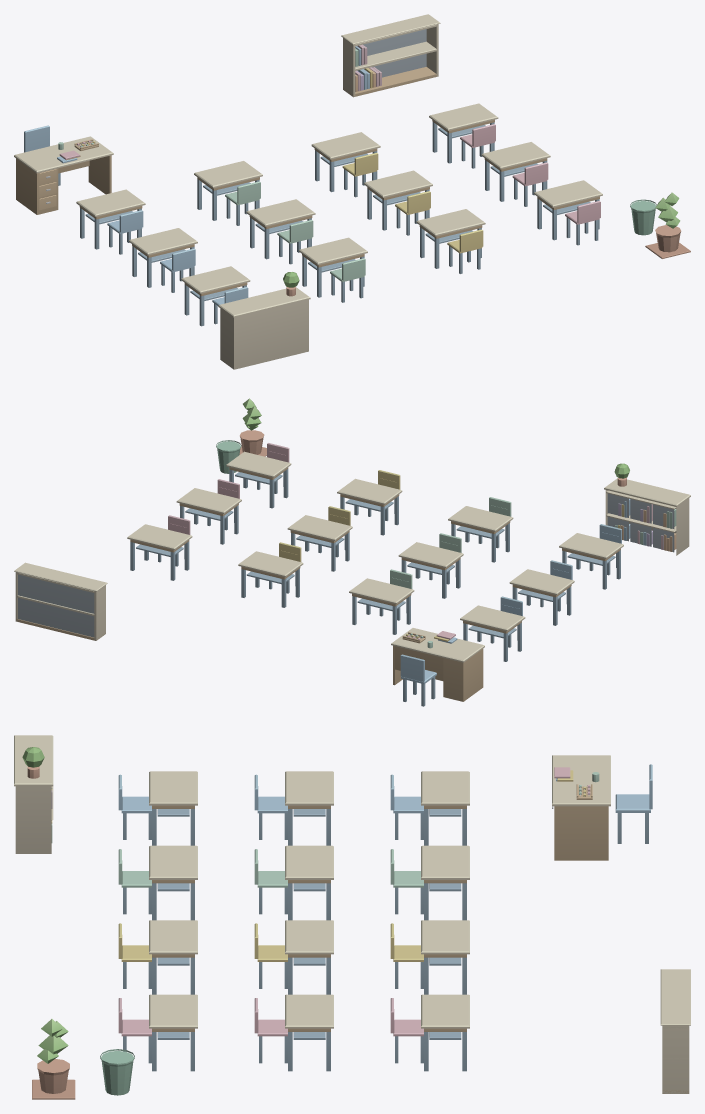
Rendered from k2_interior_props.glb.
3 views of the same model, one above another, from view 1: azimuth 30°, elevation 25°; view 2: azimuth 150°, elevation 25°; view 3: azimuth 270°, elevation 25° (orthographic). The views are drawn at different scales.
Visible parts, largest first — view 1: almari_kelas, rak_buku_kecil, meja_guru, meja_murid_12, meja_murid_11, meja_murid_10, meja_murid_4, meja_murid_8, meja_murid_3, meja_murid_1, meja_murid_7, meja_murid_6 (+6 smaller); view 2: rak_buku_kecil, almari_kelas, meja_guru, meja_murid_4, meja_murid_3, meja_murid_2, meja_murid_12, meja_murid_1, meja_murid_6, meja_murid_5, meja_murid_10, meja_murid_7 (+6 smaller); view 3: meja_guru, almari_kelas, rak_buku_kecil, meja_murid_4, meja_murid_8, meja_murid_2, meja_murid_6, meja_murid_10, meja_murid_1, meja_murid_5, meja_murid_9, meja_murid_12 (+6 smaller).
Boxes of the visible parts, x1,y1,x2,y2 form: almari_kelas: [218, 272, 310, 369]; rak_buku_kecil: [341, 14, 440, 97]; meja_guru: [14, 136, 113, 214]; meja_murid_12: [534, 180, 602, 245]; meja_murid_11: [416, 209, 485, 273]; meja_murid_10: [299, 237, 367, 302]; meja_murid_4: [429, 103, 498, 168]; meja_murid_8: [481, 142, 550, 206]; meja_murid_3: [311, 132, 380, 197]; meja_murid_1: [76, 189, 145, 254]; meja_murid_7: [364, 170, 432, 235]; meja_murid_6: [246, 199, 315, 264]; rak_buku_kecil: [14, 562, 107, 640]; almari_kelas: [604, 463, 690, 555]; meja_guru: [391, 628, 484, 701]; meja_murid_4: [127, 515, 192, 580]; meja_murid_3: [238, 542, 303, 607]; meja_murid_2: [349, 569, 414, 634]; meja_murid_12: [226, 443, 291, 508]; meja_murid_1: [460, 596, 525, 661]; meja_murid_6: [398, 533, 463, 598]; meja_murid_5: [509, 560, 574, 625]; meja_murid_10: [448, 497, 513, 562]; meja_murid_7: [287, 506, 352, 571]; meja_guru: [552, 755, 610, 860]; almari_kelas: [14, 735, 53, 853]; rak_buku_kecil: [660, 969, 690, 1093]; meja_murid_4: [390, 994, 469, 1071]; meja_murid_8: [254, 994, 333, 1071]; meja_murid_2: [390, 845, 469, 920]; meja_murid_6: [254, 845, 333, 920]; meja_murid_10: [118, 845, 197, 920]; meja_murid_1: [390, 771, 469, 845]; meja_murid_5: [254, 771, 333, 845]; meja_murid_9: [118, 771, 197, 845]; meja_murid_12: [118, 994, 197, 1071].
Size of the model in its own units: 8.69 by 1.38 by 8.47.
